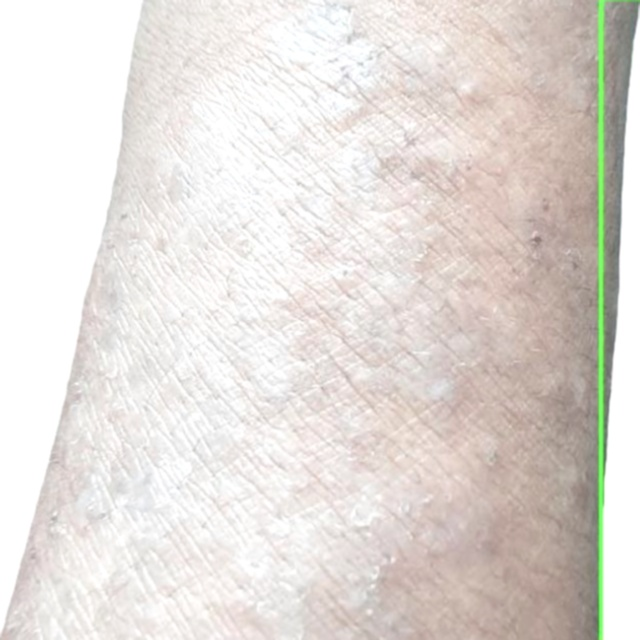Tinea Corporis: (600, 0, 639, 639)
